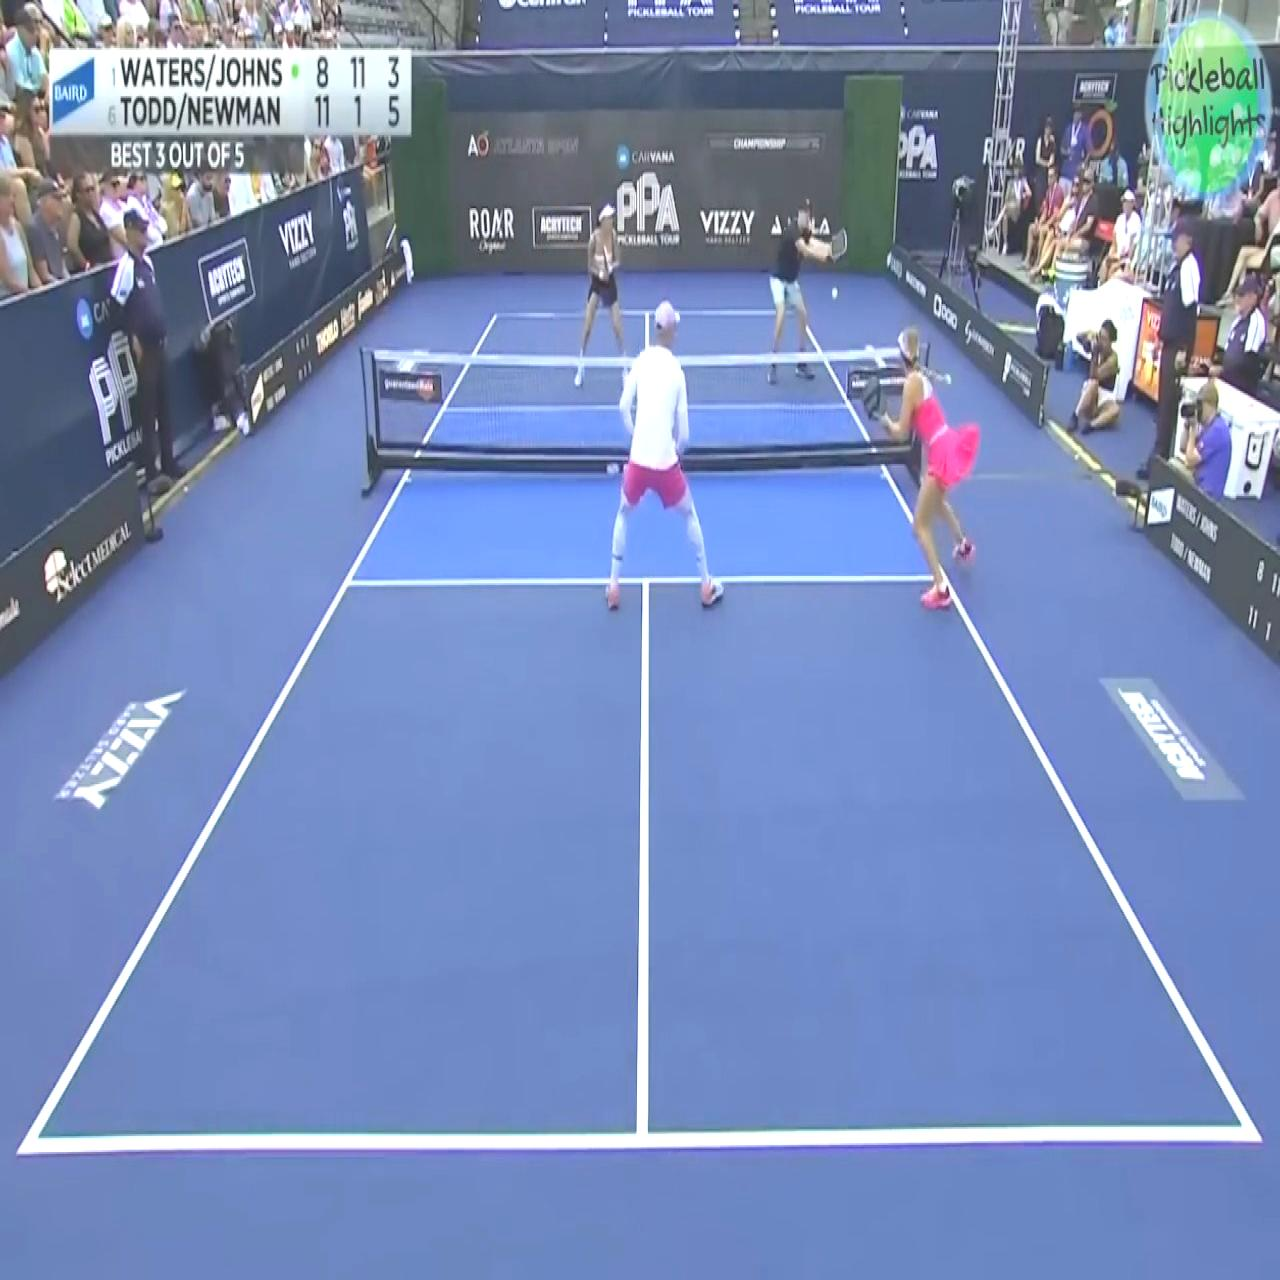Pickleball: (829, 281, 840, 304)
